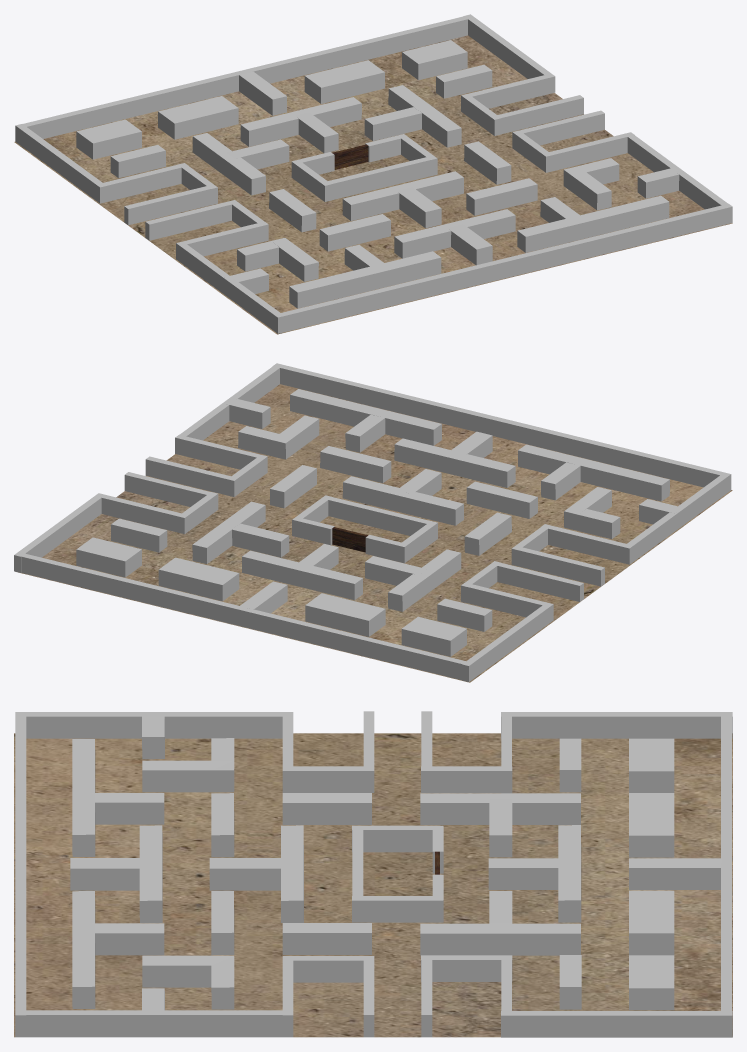
Rendered from PacManMap.fbx.
The picture shows the model from 3 angles, top to bottom: view 1: azimuth 30°, elevation 25°; view 2: azimuth 150°, elevation 25°; view 3: azimuth 270°, elevation 25°; orthographic projection. The views are drawn at different scales.
Parts seen in each view (by area): view 1: Plane, Cube, Cube.009, Cube.046, Cube.043, Cube.033, Cube.034, Cube.035, Cube.026, Cube.027, Cube.002, Cube.050 (+44 smaller); view 2: Plane, Cube.009, Cube, Cube.043, Cube.046, Cube.034, Cube.035, Cube.033, Cube.027, Cube.026, Cube.002, Cube.008 (+44 smaller); view 3: Plane, Cube.017, Cube.002, Cube.010, Cube.008, Cube.031, Cube.029, Cube, Cube.009, Cube.027, Cube.026, Cube.038 (+41 smaller).
Part boxes in pixels (bbox=[...]): Plane: bbox=[14, 35, 732, 334]; Cube: bbox=[274, 203, 732, 333]; Cube.009: bbox=[15, 14, 473, 144]; Cube.046: bbox=[517, 195, 669, 252]; Cube.043: bbox=[289, 251, 441, 308]; Cube.033: bbox=[240, 97, 361, 146]; Cube.034: bbox=[342, 171, 463, 220]; Cube.035: bbox=[394, 209, 515, 258]; Cube.026: bbox=[158, 96, 238, 139]; Cube.027: bbox=[304, 60, 384, 103]; Cube.002: bbox=[177, 242, 281, 330]; Cube.050: bbox=[326, 155, 436, 200]; Plane: bbox=[15, 384, 732, 682]; Cube.009: bbox=[15, 552, 473, 681]; Cube: bbox=[273, 363, 731, 492]; Cube.043: bbox=[518, 444, 669, 501]; Cube.046: bbox=[290, 389, 441, 445]; Cube.034: bbox=[342, 476, 463, 525]; Cube.035: bbox=[394, 438, 515, 487]; Cube.033: bbox=[242, 550, 362, 600]; Cube.027: bbox=[158, 557, 239, 601]; Cube.026: bbox=[305, 593, 385, 636]; Cube.002: bbox=[625, 475, 727, 563]; Cube.008: bbox=[462, 602, 553, 682]; Plane: bbox=[14, 733, 732, 1037]; Cube.017: bbox=[23, 1010, 290, 1037]; Cube.002: bbox=[22, 712, 291, 738]; Cube.010: bbox=[501, 1011, 732, 1037]; Cube.008: bbox=[501, 712, 732, 738]; Cube.031: bbox=[420, 923, 580, 955]; Cube.029: bbox=[420, 793, 580, 824]; Cube: bbox=[15, 712, 26, 1037]; Cube.009: bbox=[721, 712, 731, 1015]; Cube.027: bbox=[629, 890, 674, 955]; Cube.026: bbox=[629, 793, 674, 857]; Cube.038: bbox=[142, 760, 233, 792].
Bounding box in the file's own units: 1991 × 69.81 × 1988.
